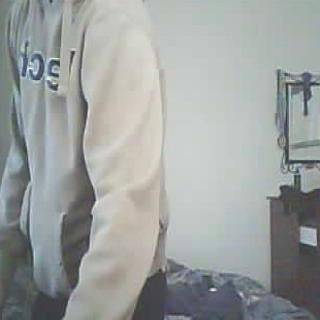Navy Sweatpants: (32, 285, 169, 320)
Yellow Hoodie: (0, 0, 171, 289)
